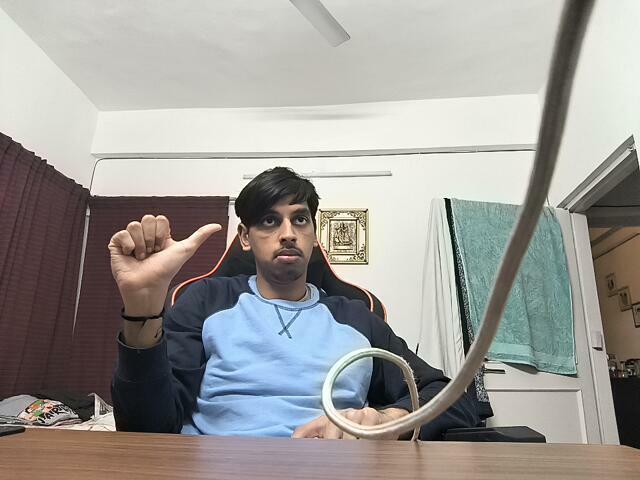LEFT: (88, 212, 240, 292)
